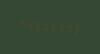eight: (33, 18, 40, 33)
five: (49, 19, 56, 34)
four: (25, 17, 32, 32)
nine: (57, 20, 64, 35)
seven: (17, 17, 24, 31)
two: (73, 22, 80, 36)
zero: (41, 19, 48, 33), (65, 21, 72, 35)
